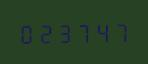four: (94, 19, 112, 43)
seven: (75, 19, 93, 43), (113, 19, 131, 43)
three: (56, 20, 74, 43)
two: (36, 20, 54, 44)
zero: (17, 20, 35, 44)
